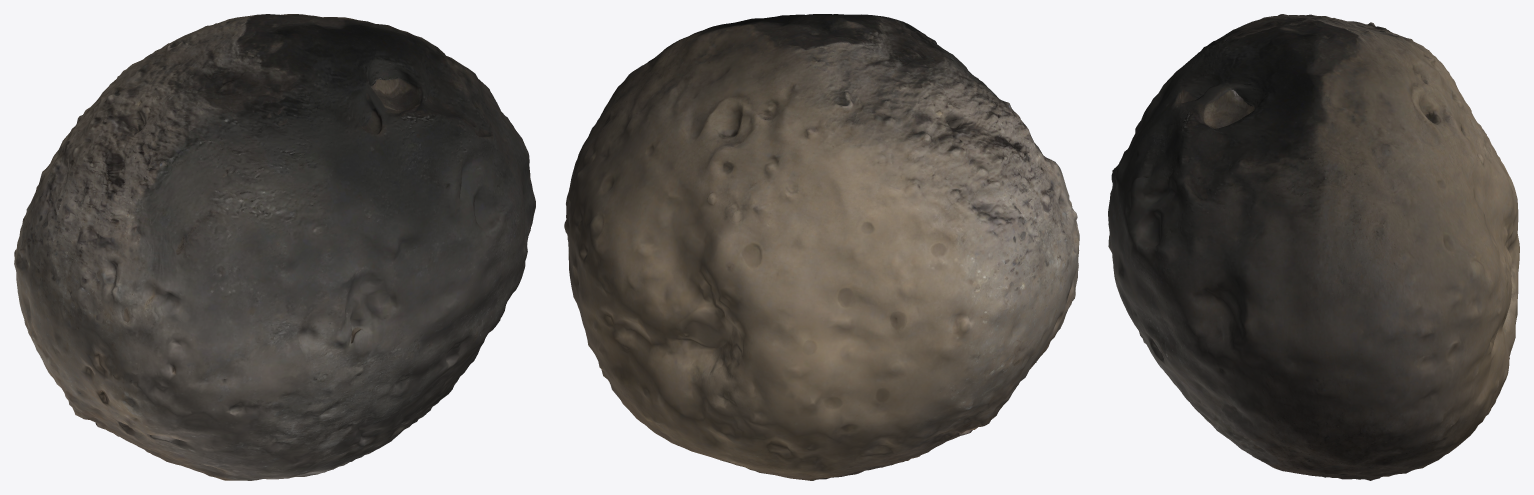
Rendered from Asteroid_Vesta_Portra_0718160800_texture.fbx.
3 renders of one model, left to right at view 1: azimuth 30°, elevation 25°; view 2: azimuth 150°, elevation 25°; view 3: azimuth 270°, elevation 25°, orthographic. The views are drawn at different scales.
Parts seen in each view (by area): view 1: Mesh_0; view 2: Mesh_0; view 3: Mesh_0.
Part boxes in pixels (box(x1,y1,x2,y2)): Mesh_0: box(14, 14, 535, 480); Mesh_0: box(564, 14, 1079, 480); Mesh_0: box(1108, 14, 1519, 480).
Bounding box in the file's own units: 200 × 179 × 161.
Materials: 1 (1 with a texture image).
